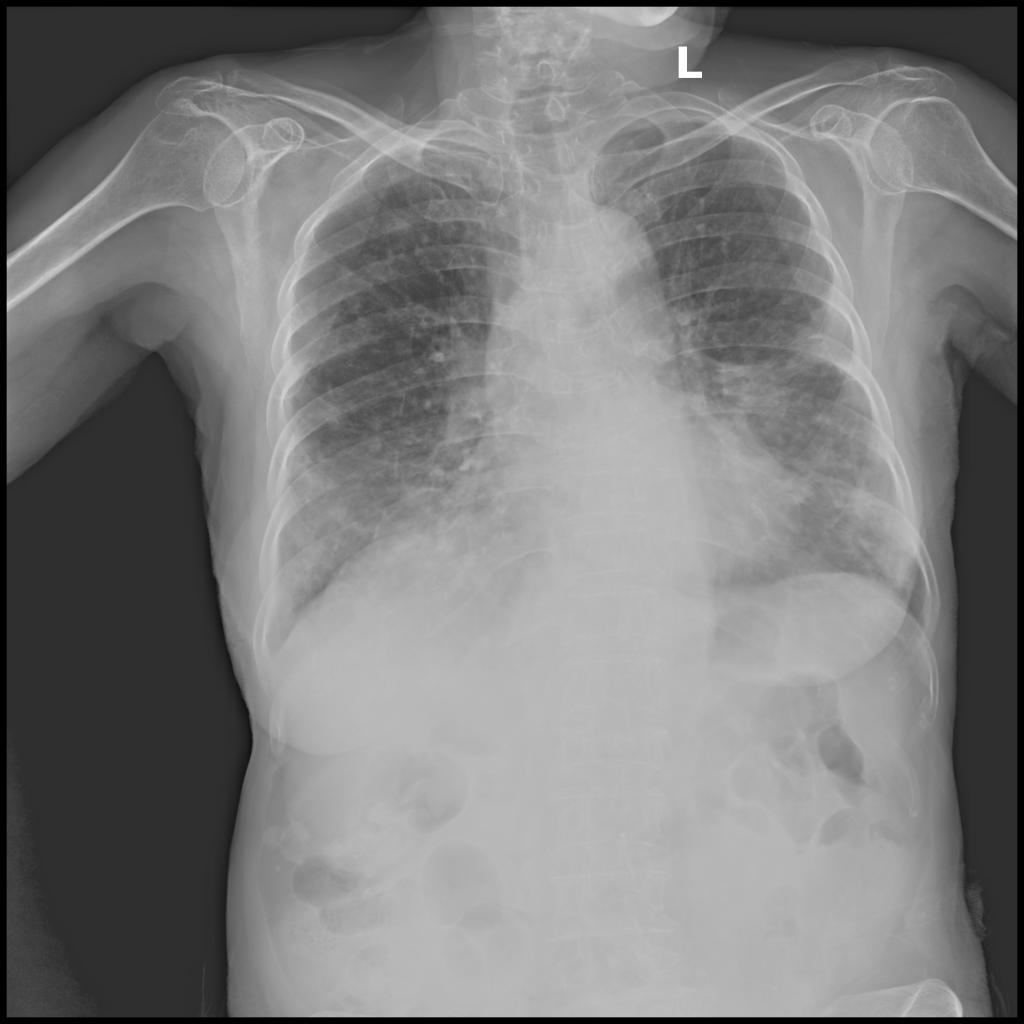Nodule: (319, 408, 346, 425), (394, 339, 414, 356)
